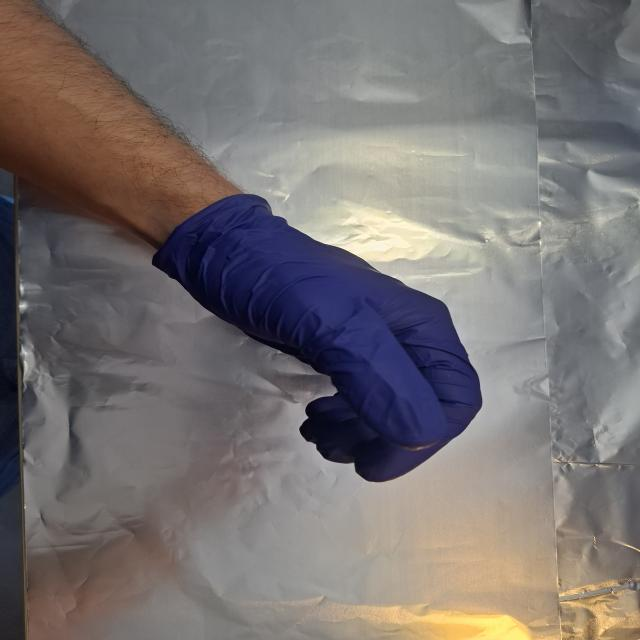glove_on: (157, 196, 485, 484)
